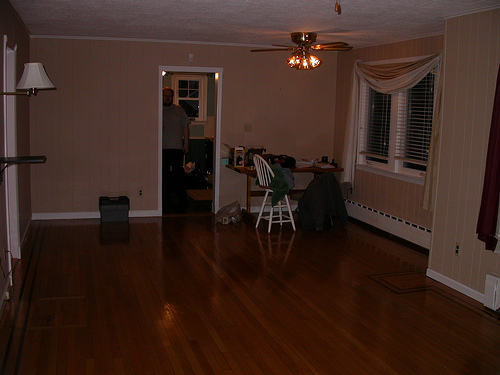without_mask: (161, 87, 176, 106)
